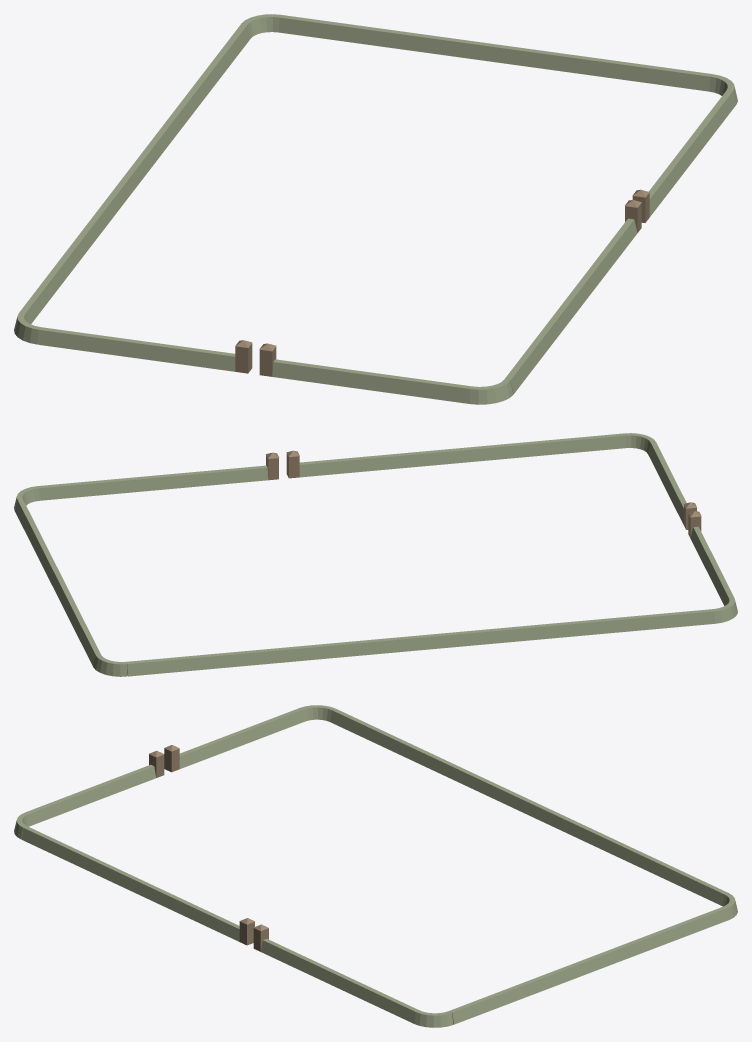
Rendered from roman-fort-a.far.glb.
3 views of the same model, one above another, from view 1: azimuth 30°, elevation 25°; view 2: azimuth 150°, elevation 25°; view 3: azimuth 270°, elevation 25° (orthographic). The views are drawn at different scales.
Parts seen in each view (by area): view 1: fort1/rampart-ne-0@far, fort1/rampart-nw-1@far, fort1/rampart-sw-3@far, fort1/rampart-sw-2@far, fort1/rampart-se-4@far, fort1/rampart-se-5@far; view 2: fort1/rampart-nw-1@far, fort1/rampart-se-4@far, fort1/rampart-se-5@far, fort1/rampart-ne-0@far, fort1/rampart-sw-3@far, fort1/rampart-sw-2@far; view 3: fort1/rampart-nw-1@far, fort1/rampart-ne-0@far, fort1/rampart-se-4@far, fort1/rampart-se-5@far, fort1/rampart-sw-3@far, fort1/rampart-sw-2@far.
Boxes of the visible parts, x1,y1,x2,y2 form: fort1/rampart-ne-0@far: [241, 14, 712, 91]; fort1/rampart-nw-1@far: [14, 23, 250, 344]; fort1/rampart-sw-3@far: [272, 359, 513, 404]; fort1/rampart-sw-2@far: [38, 327, 235, 371]; fort1/rampart-se-4@far: [504, 218, 637, 394]; fort1/rampart-se-5@far: [649, 74, 737, 216]; fort1/rampart-nw-1@far: [126, 598, 737, 676]; fort1/rampart-se-4@far: [299, 433, 625, 477]; fort1/rampart-se-5@far: [14, 465, 268, 509]; fort1/rampart-ne-0@far: [14, 499, 126, 676]; fort1/rampart-sw-3@far: [625, 433, 686, 524]; fort1/rampart-sw-2@far: [690, 526, 734, 605]; fort1/rampart-nw-1@far: [300, 705, 728, 905]; fort1/rampart-ne-0@far: [449, 893, 737, 1024]; fort1/rampart-se-4@far: [21, 826, 239, 941]; fort1/rampart-se-5@far: [261, 938, 453, 1027]; fort1/rampart-sw-3@far: [14, 764, 155, 838]; fort1/rampart-sw-2@far: [179, 708, 304, 768].
Size of the model in its own units: 273 by 9.9 by 267.
